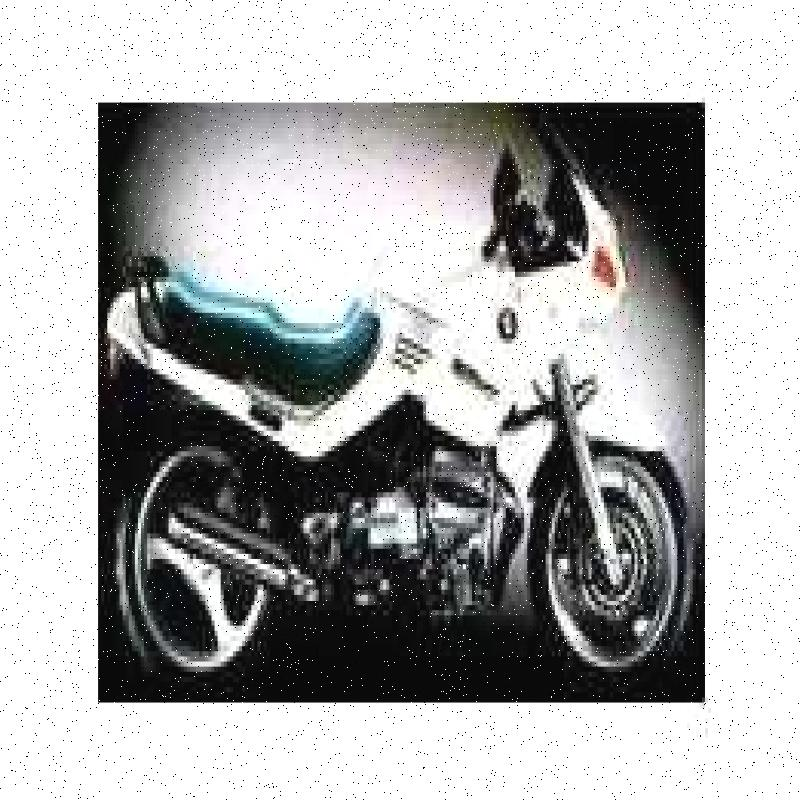bike: (99, 113, 697, 689)
